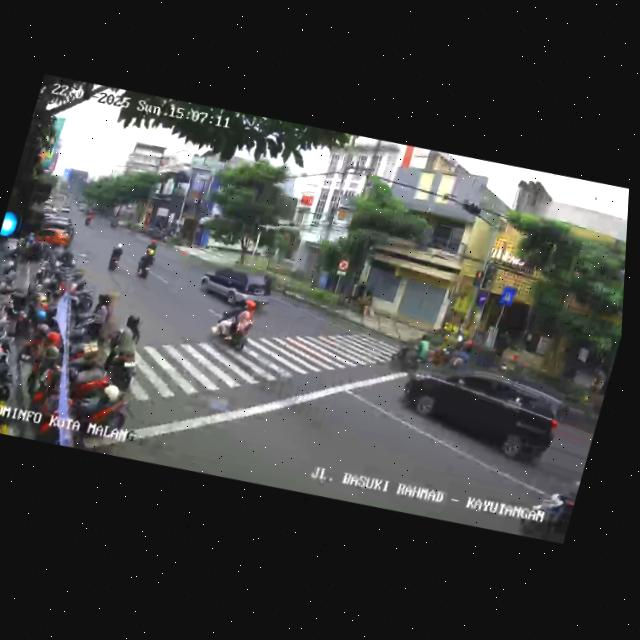car: (388, 349, 572, 475), (195, 257, 277, 316), (30, 210, 78, 250)
motorcycle: (517, 457, 584, 542), (98, 310, 150, 390), (204, 292, 260, 354), (386, 324, 447, 378), (132, 238, 159, 281), (103, 239, 128, 277), (82, 207, 95, 226)
person: (78, 289, 119, 361)
